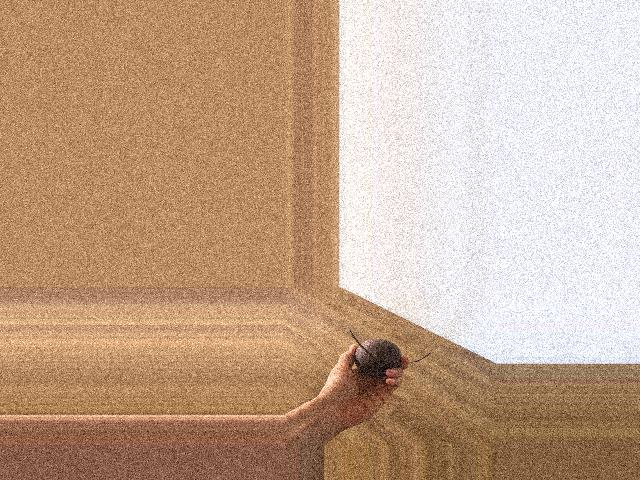beet: (350, 330, 430, 376)
